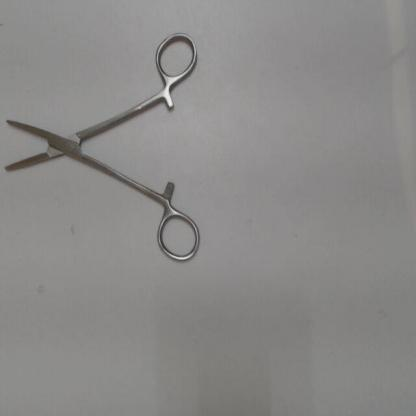Mayo Needle Holder: (1, 23, 206, 266)
